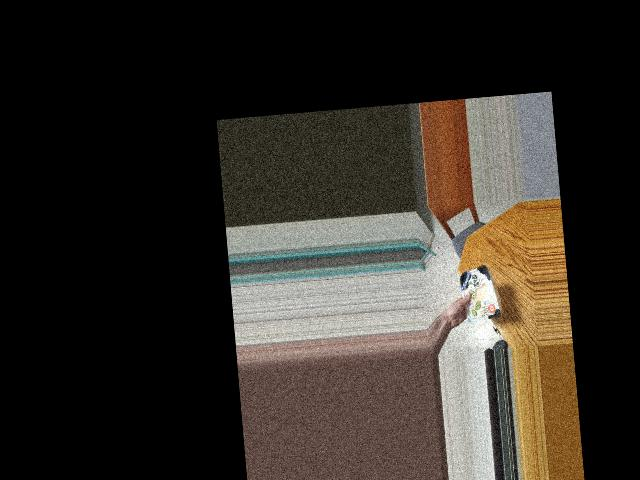cheese: (454, 270, 500, 313)
